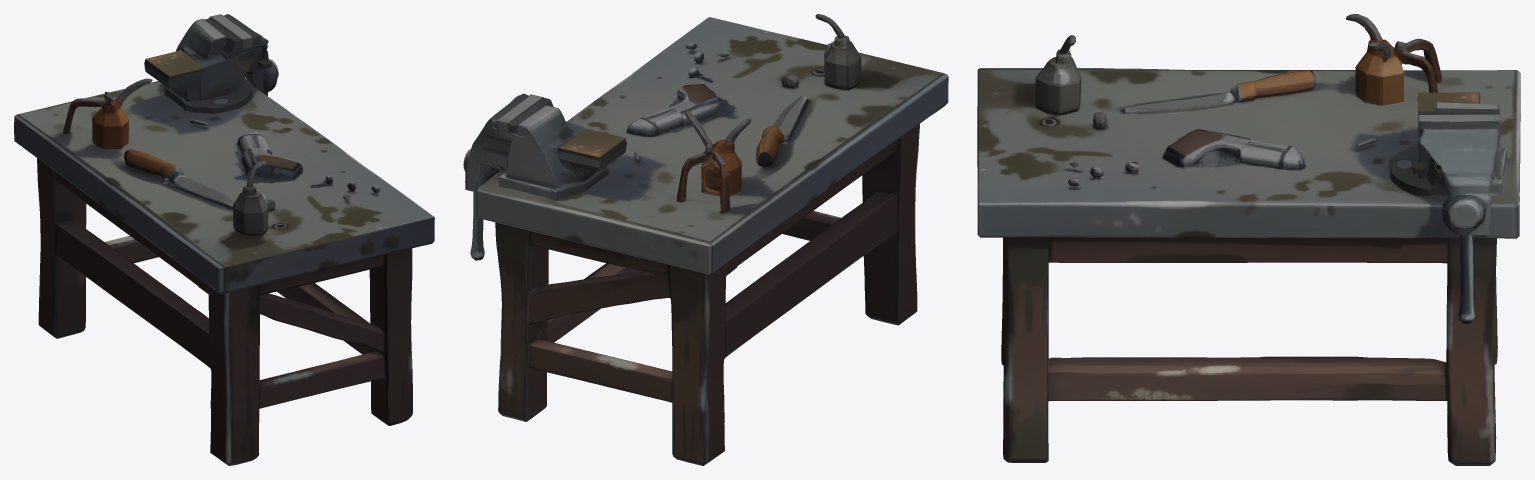
File: street_smith.glb
3 views of the same model, side by side, from view 1: azimuth 30°, elevation 25°; view 2: azimuth 150°, elevation 25°; view 3: azimuth 270°, elevation 25° (orthographic). The views are drawn at different scales.
Visible parts, largest first — view 1: world; view 2: world; view 3: world.
Boxes of the visible parts, box(x1,y1,x2,y2) form: world: box(14, 14, 434, 465); world: box(463, 14, 948, 465); world: box(977, 14, 1520, 465).
Bounding box in the file's own units: 0.6366 × 0.6854 × 0.9565.
Materials: 1 (1 with a texture image).
